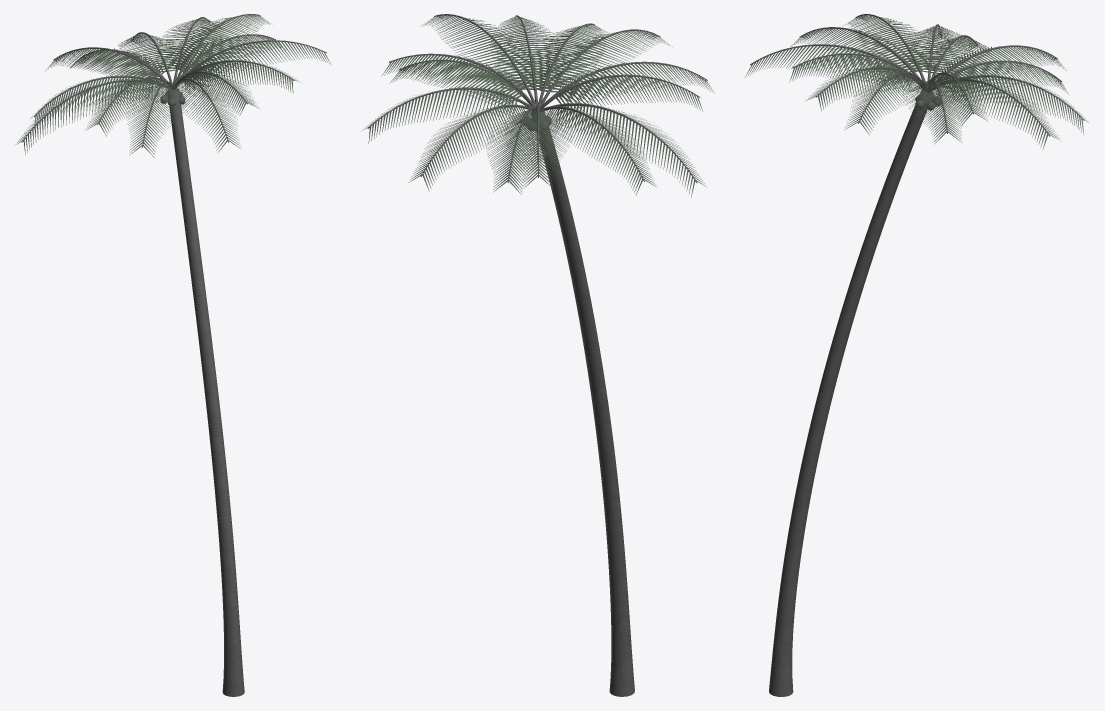
File: SM_Island_Palm_C.fbx
The picture shows the model from 3 angles, left to right: view 1: azimuth 30°, elevation 25°; view 2: azimuth 150°, elevation 25°; view 3: azimuth 270°, elevation 25°; orthographic projection. The views are drawn at different scales.
Parts seen in each view (by area): view 1: SM_Island_Palm_C; view 2: SM_Island_Palm_C; view 3: SM_Island_Palm_C.
Part boxes in pixels (bbox=[...]): SM_Island_Palm_C: bbox=[16, 14, 331, 696]; SM_Island_Palm_C: bbox=[363, 14, 714, 696]; SM_Island_Palm_C: bbox=[745, 14, 1088, 696].
Size of the model in its own units: 789 by 1624 by 780.
2 materials, 2 textured.
